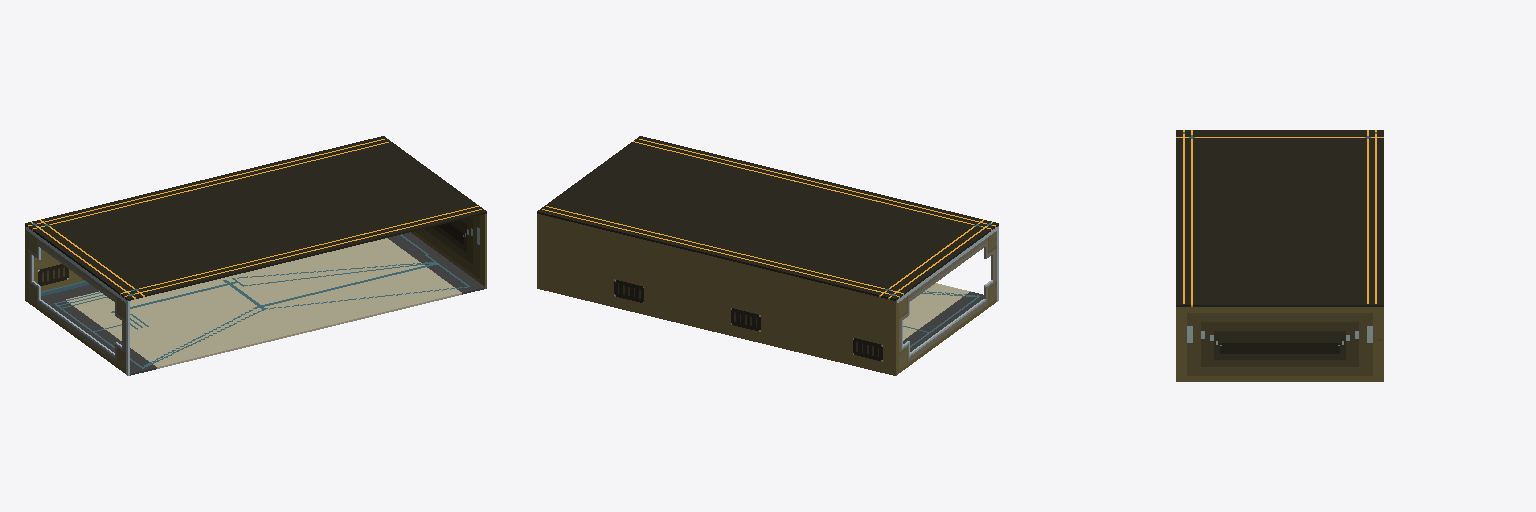
3 views of the same model, side by side, from view 1: azimuth 30°, elevation 25°; view 2: azimuth 150°, elevation 25°; view 3: azimuth 270°, elevation 25° (orthographic).
Visible parts, largest first — view 1: object 1; view 2: object 1; view 3: object 1.
Part boxes in pixels (bbox=[...]): object 1: bbox=[25, 136, 486, 375]; object 1: bbox=[537, 136, 998, 375]; object 1: bbox=[1176, 130, 1383, 381].
Bounding box in the file's own units: 20 × 4.1 × 10.
Materials: 1 (1 with a texture image).